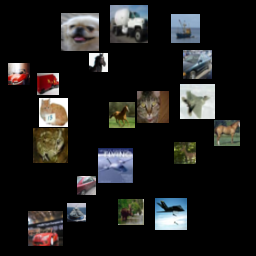airplane: (180, 84, 215, 119), (98, 148, 133, 183), (155, 198, 187, 230)
automobile: (28, 211, 63, 246), (183, 50, 212, 79), (8, 63, 30, 85), (77, 176, 96, 195)
cat: (137, 91, 169, 123), (39, 98, 68, 127)
deer: (118, 199, 144, 225), (174, 142, 196, 164)
dog: (61, 13, 99, 51)
frog: (33, 128, 68, 163)
ship: (171, 14, 200, 43), (67, 203, 86, 222)
